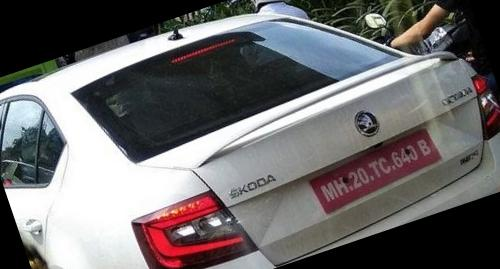plate: (296, 123, 465, 221)
